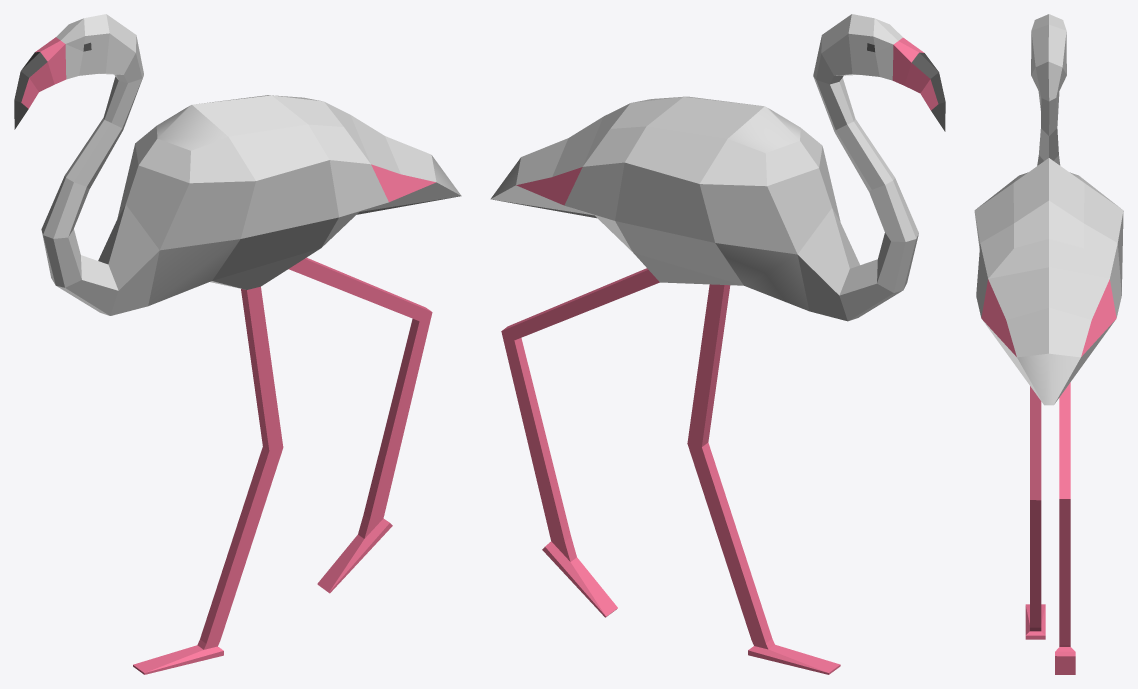
Rendered from Flamingo.glb.
The picture shows the model from 3 angles, left to right: view 1: azimuth 30°, elevation 25°; view 2: azimuth 150°, elevation 25°; view 3: azimuth 270°, elevation 25°; orthographic projection. The views are drawn at different scales.
Visible parts, largest first — view 1: Box001; view 2: Box001; view 3: Box001.
Boxes of the visible parts, <box> form: Box001: <box>14,14,461,674</box>; Box001: <box>490,14,945,674</box>; Box001: <box>974,14,1123,674</box>.
Bounding box in the file's own units: 171 × 241 × 56.95.
